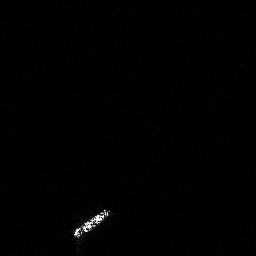ship: (69, 205, 114, 240)
